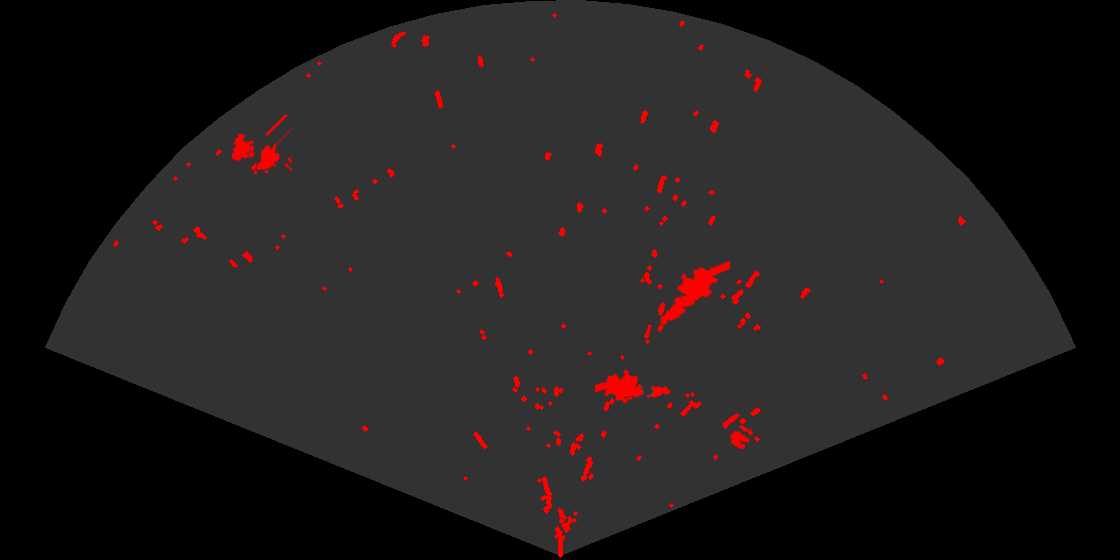ball: (728, 423, 755, 451)
cage: (230, 115, 292, 176)
frogman: (658, 259, 730, 327), (595, 368, 672, 402)
